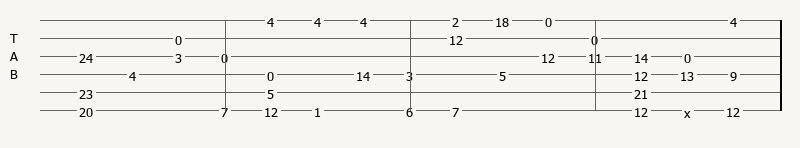0: (175, 32, 186, 45), (221, 50, 232, 63), (267, 68, 278, 81), (545, 14, 556, 27), (591, 32, 602, 45), (684, 50, 695, 63)
1: (314, 104, 325, 117)
11: (588, 50, 606, 63)
12: (264, 104, 282, 117), (449, 32, 467, 45), (541, 50, 559, 63), (634, 68, 652, 81), (634, 104, 652, 117), (726, 104, 744, 117)
13: (680, 68, 698, 81)
14: (356, 68, 374, 81), (634, 50, 652, 63)
18: (495, 14, 513, 27)
2: (452, 14, 463, 27)
20: (79, 104, 97, 117)
21: (634, 86, 652, 99)
23: (79, 86, 97, 99)
24: (79, 50, 97, 63)
3: (175, 50, 186, 63), (406, 68, 417, 81)
4: (129, 68, 140, 81), (267, 14, 278, 27), (314, 14, 325, 27), (360, 14, 371, 27), (730, 14, 741, 27)
5: (267, 86, 278, 99), (499, 68, 510, 81)
6: (406, 104, 417, 117)
7: (221, 104, 232, 117), (452, 104, 463, 117)
9: (730, 68, 741, 81)
x: (684, 105, 695, 116)
